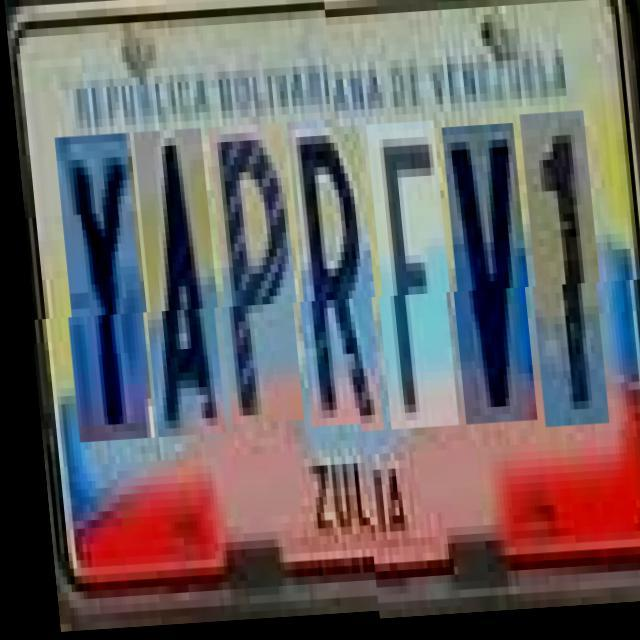1: (516, 119, 604, 434)
A: (131, 138, 222, 446)
F: (363, 126, 454, 434)
P: (206, 134, 299, 434)
R: (285, 130, 379, 438)
V: (438, 130, 532, 430)
Y: (52, 142, 150, 450)
